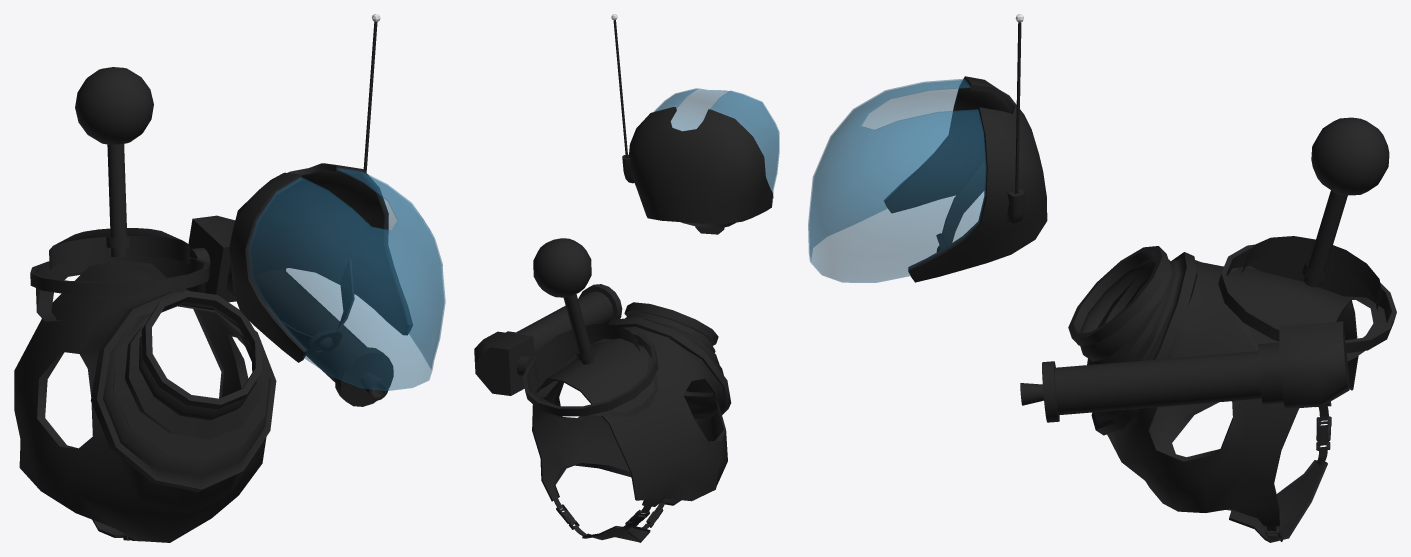
File: acc.fbx
The picture shows the model from 3 angles, left to right: view 1: azimuth 30°, elevation 25°; view 2: azimuth 150°, elevation 25°; view 3: azimuth 270°, elevation 25°; orthographic projection. The views are drawn at different scales.
Visible parts, largest first — view 1: SK_CH_Chicken1_Armor1; view 2: SK_CH_Chicken1_Armor1; view 3: SK_CH_Chicken1_Armor1.
Boxes of the visible parts, x1,y1,x2,y2 form: SK_CH_Chicken1_Armor1: (14,14,445,542); SK_CH_Chicken1_Armor1: (474,14,779,542); SK_CH_Chicken1_Armor1: (808,14,1396,542).
Bounding box in the file's own units: 28.46 × 57.35 × 53.12.
